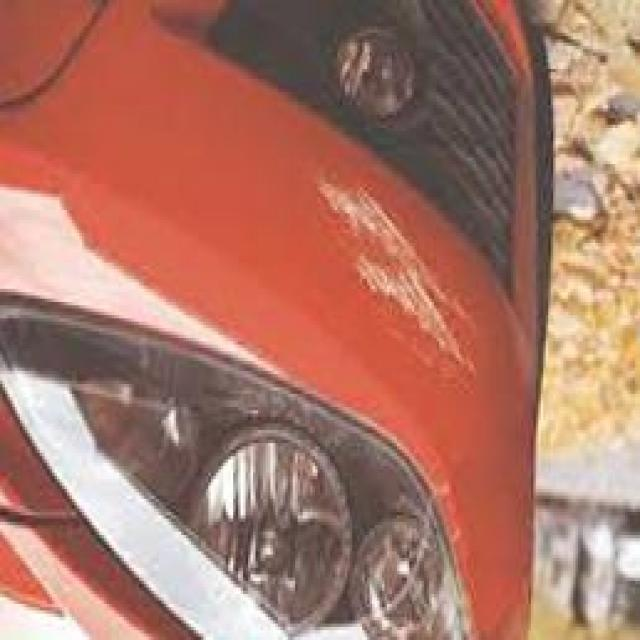scratch: (295, 152, 506, 386)
